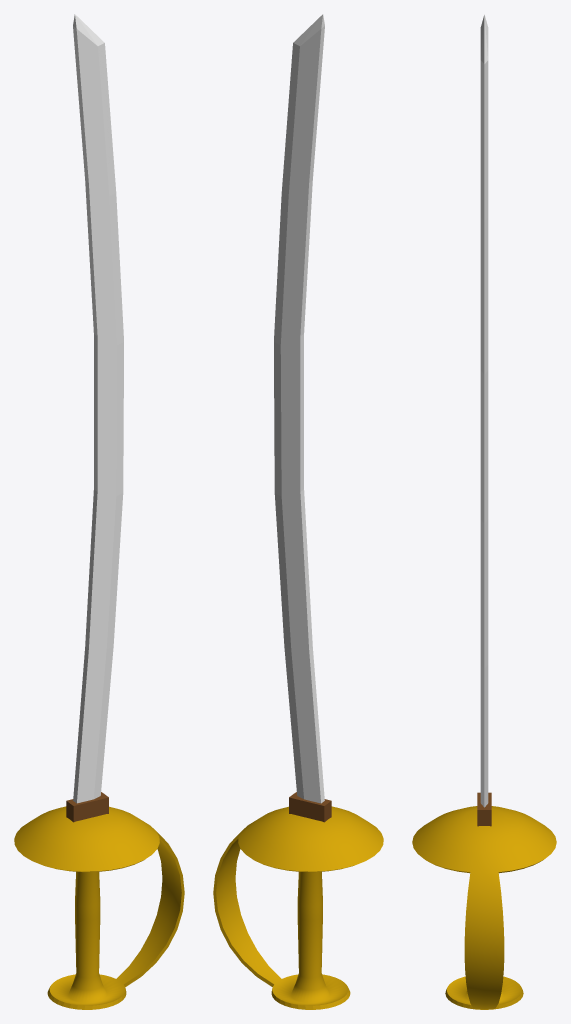
File: Talwar.fbx
3 views of the same model, side by side, from view 1: azimuth 30°, elevation 25°; view 2: azimuth 150°, elevation 25°; view 3: azimuth 270°, elevation 25° (orthographic).
Parts seen in each view (by area): view 1: Talwar; view 2: Talwar; view 3: Talwar.
Part boxes in pixels (left/top/right/bottom): Talwar: left=14, top=14, right=184, bottom=1009; Talwar: left=213, top=14, right=383, bottom=1009; Talwar: left=412, top=14, right=556, bottom=1009.
Size of the model in its own units: 34.4 by 214 by 28.5.
